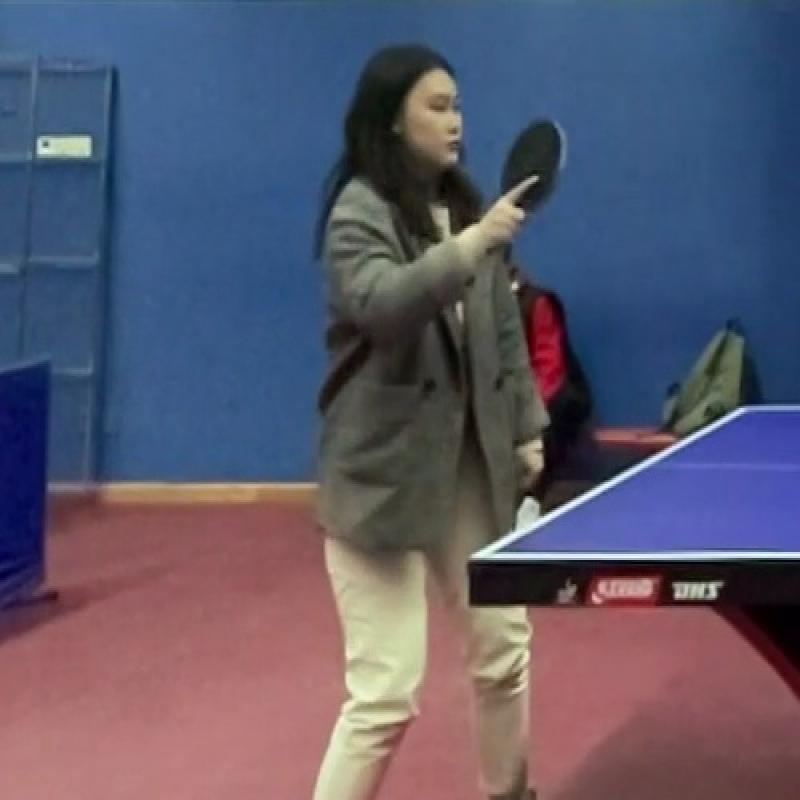bats: (484, 104, 580, 226)
